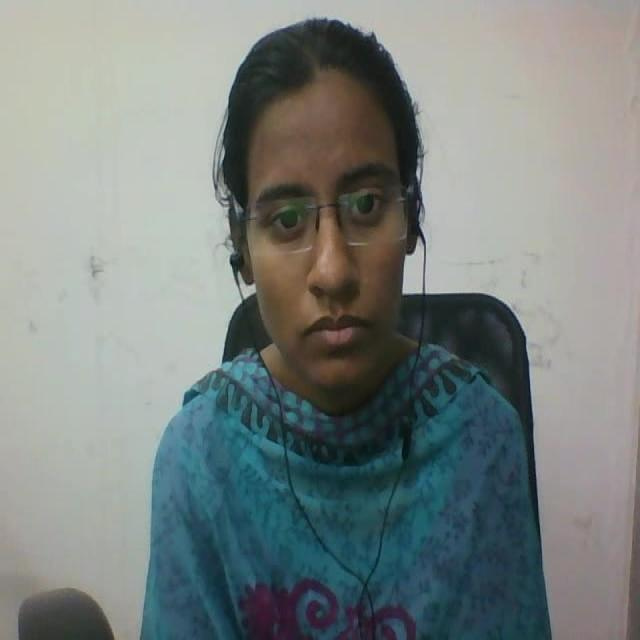Engaged: (195, 0, 450, 415)
